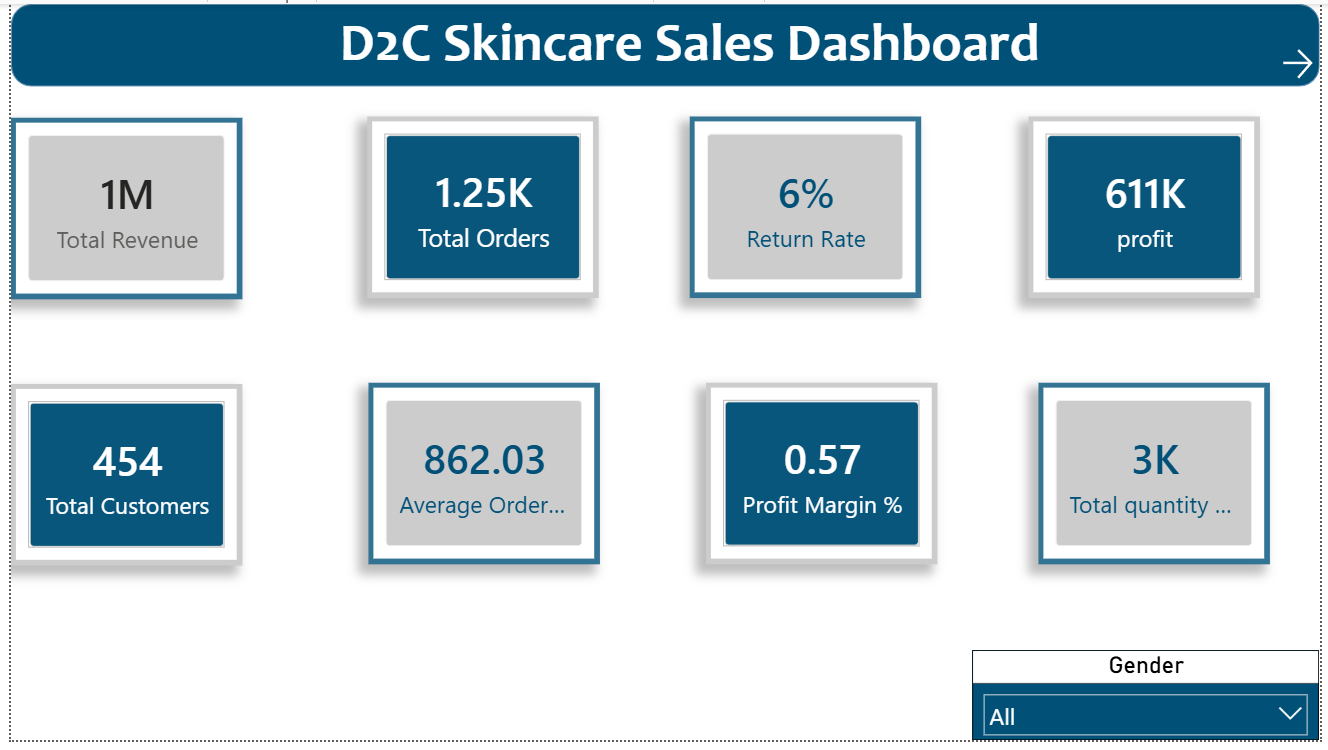

The dashboard page shown, as its layout file describes it:
{"tool":"powerbi","page":{"name":"Page 1","canvas":[1280,720],"ordinal":0},"visuals":[{"type":"shape","box":[0,0,1280.3,80.7],"z":0},{"type":"textbox","box":[58.7,0,1210.6,80.7],"z":1000},{"type":"slicer","title":"Gender ","fields":{"Values":["Customers.gender"]},"box":[940.7,631.9,339,88],"z":2000},{"type":"cardVisual","fields":{"Data":["Products.Profit Margin %"]},"box":[679.9,370.5,226.2,177.3],"z":3000},{"type":"cardVisual","fields":{"Data":["Order_Items.Total quantity sold"]},"box":[1005.2,370.5,226.2,177.3],"z":4000},{"type":"cardVisual","fields":{"Data":["Returns.Return Rate"]},"box":[663.8,110,226.2,177.5],"z":5000},{"type":"cardVisual","fields":{"Data":["Products.profit"]},"box":[995,110,226.2,177.5],"z":6000},{"type":"cardVisual","fields":{"Data":["Count(Orders.order_id)"]},"box":[348.5,110.1,226.2,177.3],"z":7000},{"type":"cardVisual","fields":{"Data":["Orders.Measure 2"]},"box":[349.7,370.5,226.2,177.3],"z":8000},{"type":"cardVisual","fields":{"Data":["Count(Orders.customer_id)"]},"box":[0,371.7,226.2,177.3],"z":9000},{"type":"cardVisual","fields":{"Data":["Orders.total sum"]},"box":[0,111.1,226.5,177.5],"z":10000},{"type":"actionButton","box":[1239.3,39,40.4,39],"z":10001}]}

Visuals, with their boxes in screenshot pixels (x1, y1, x2, y2), scaled from the page's 1280x720 canvas onto the 1328x750 screenshot:
shape: <box>0,0,1327,84</box>
textbox: <box>61,0,1317,84</box>
"Gender " slicer: <box>976,658,1327,749</box>
cardVisual - Products.Profit Margin %: <box>705,386,940,571</box>
cardVisual - Order_Items.Total quantity sold: <box>1043,386,1278,571</box>
cardVisual - Returns.Return Rate: <box>689,115,923,299</box>
cardVisual - Products.profit: <box>1032,115,1267,299</box>
cardVisual - Count(Orders.order_id): <box>362,115,596,299</box>
cardVisual - Orders.Measure 2: <box>363,386,597,571</box>
cardVisual - Count(Orders.customer_id): <box>0,387,235,572</box>
cardVisual - Orders.total sum: <box>0,116,235,301</box>
actionButton: <box>1286,41,1327,81</box>
